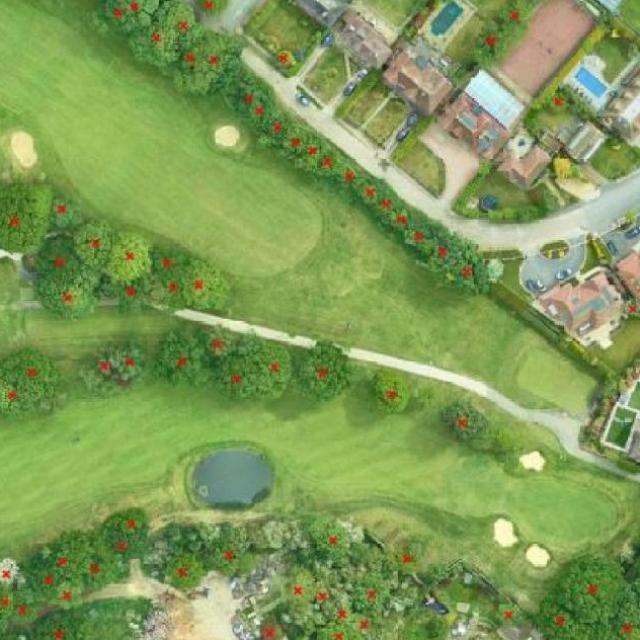tree: (551, 554, 626, 622), (292, 337, 358, 409), (232, 331, 298, 401), (0, 182, 52, 256), (27, 273, 100, 325), (178, 30, 244, 84), (3, 346, 64, 402), (151, 330, 206, 392), (100, 229, 156, 283), (208, 354, 261, 410), (203, 528, 256, 584), (181, 260, 234, 315), (168, 38, 216, 95), (434, 398, 491, 445), (365, 368, 416, 419), (158, 550, 210, 599), (127, 22, 181, 69), (0, 369, 43, 422), (531, 597, 583, 640), (414, 231, 466, 273), (448, 256, 499, 298), (36, 235, 82, 281), (154, 1, 203, 44), (75, 215, 112, 269), (109, 340, 150, 387), (28, 609, 90, 640), (96, 523, 143, 563), (309, 519, 352, 562), (73, 551, 119, 591), (346, 572, 390, 613), (102, 279, 152, 315), (471, 22, 509, 69), (146, 276, 191, 315), (344, 535, 390, 573), (193, 323, 237, 362), (109, 502, 154, 539), (261, 515, 303, 554), (40, 540, 83, 578), (498, 0, 535, 44), (160, 522, 207, 556), (80, 350, 117, 393), (24, 556, 60, 600), (280, 562, 315, 607), (610, 588, 640, 640), (229, 83, 267, 121), (150, 243, 188, 281), (7, 587, 40, 630), (43, 190, 80, 228), (391, 536, 425, 577), (491, 595, 526, 634), (46, 579, 86, 612), (400, 216, 436, 252), (292, 138, 327, 172), (101, 0, 135, 35), (121, 0, 165, 27), (257, 109, 289, 144), (349, 611, 383, 640), (279, 125, 308, 157), (544, 86, 572, 118), (352, 180, 382, 209), (0, 555, 24, 590), (313, 148, 340, 179), (315, 621, 359, 640), (329, 599, 356, 629), (424, 614, 455, 640), (256, 615, 287, 640), (369, 192, 395, 221), (191, 0, 232, 18), (269, 47, 298, 72), (310, 579, 334, 609), (244, 97, 268, 127), (334, 162, 361, 188), (388, 204, 412, 231), (0, 585, 17, 618), (620, 294, 640, 322), (0, 613, 10, 636), (0, 634, 24, 640)
